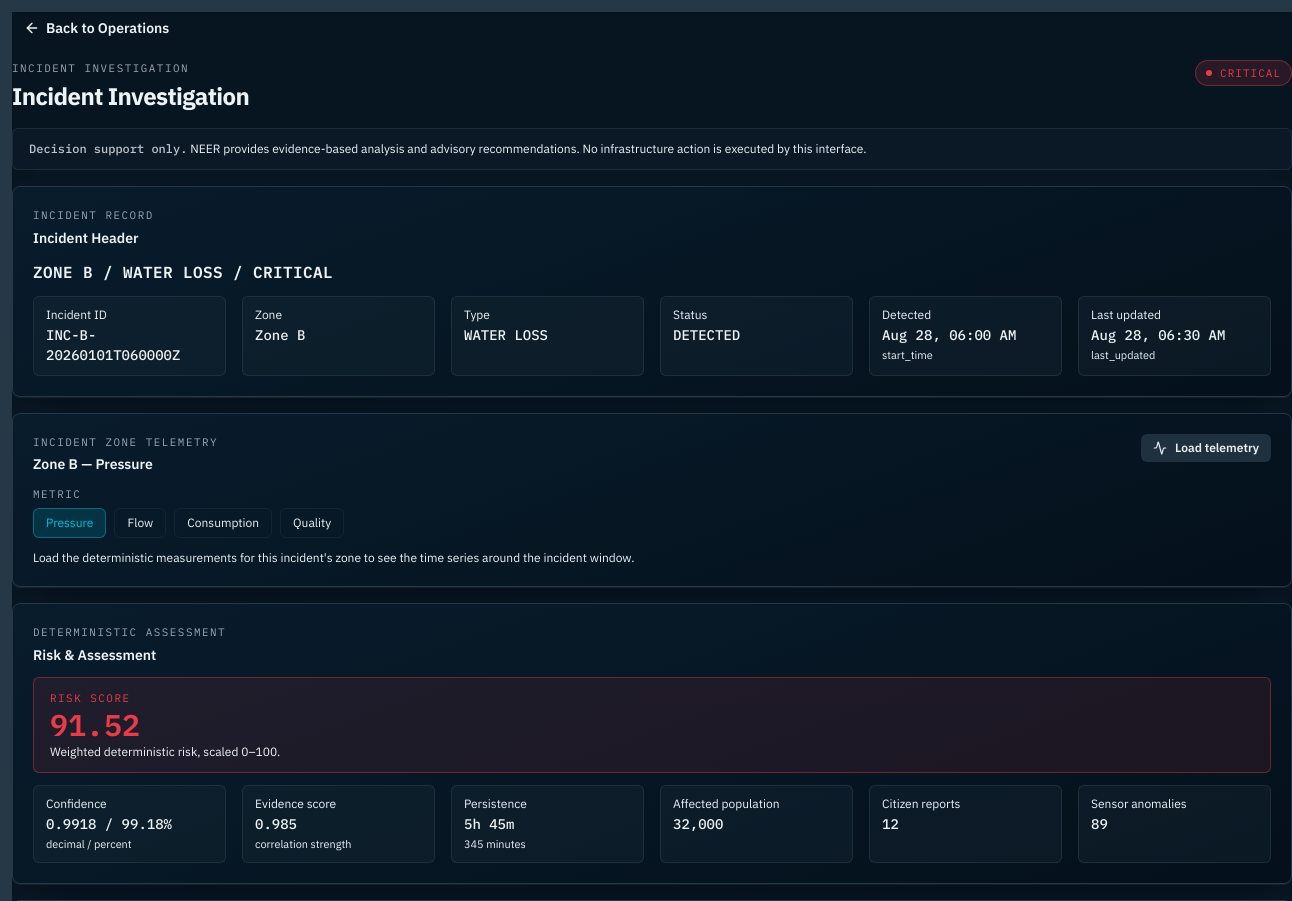
Test: IncidentInvestigationView telemetry integration › loads the incident zone telemetry on demand from the analysis run
Expected: the element labelled "Incident zone telemetry" is shown, 12,413 -> 1291,587
Click the button "Load telemetry" at (1206, 448), box 1141,434 -> 1271,462
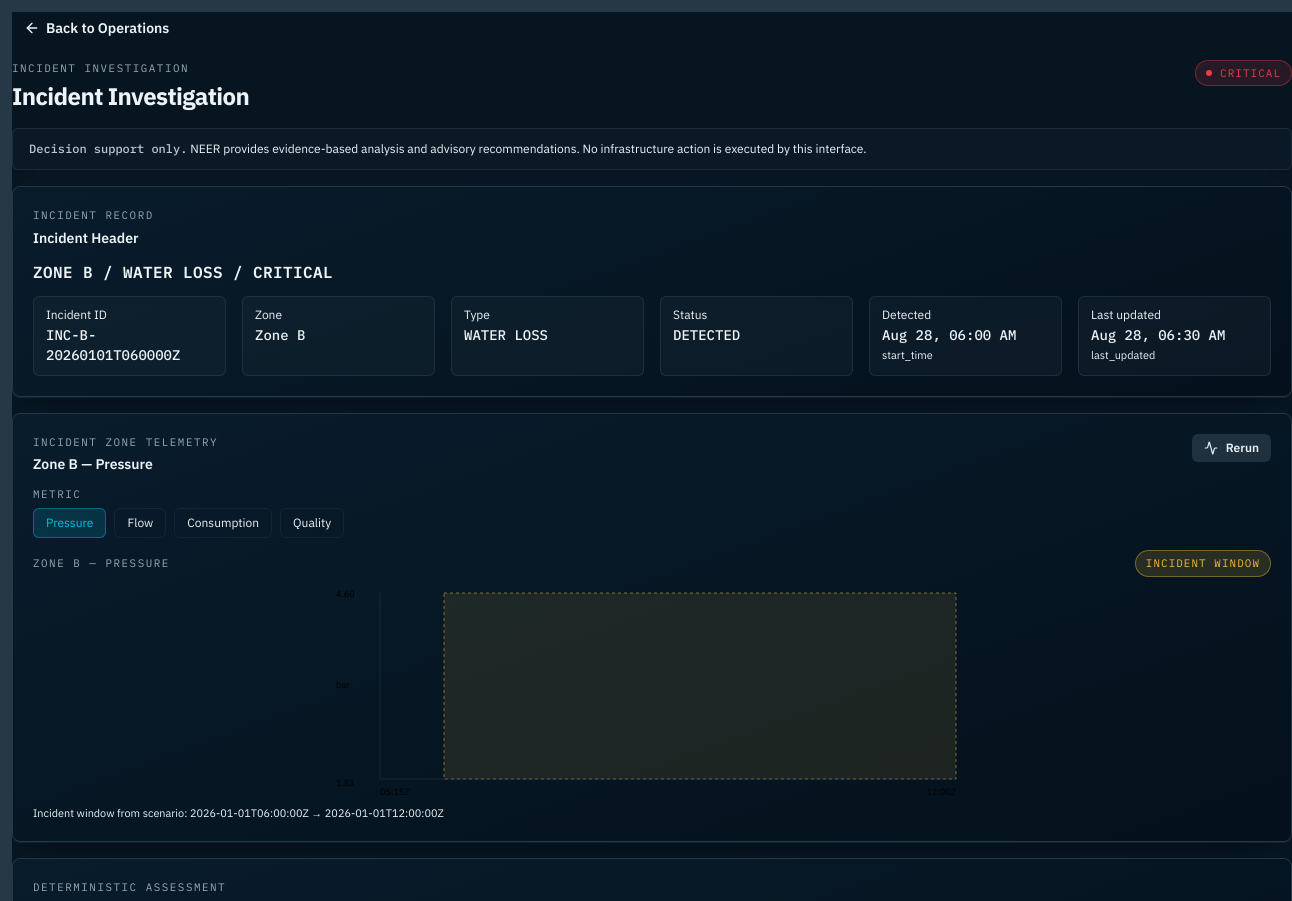
Expected: the element with test id "incident-window" is shown, 444,593 -> 956,779
Expected: the element with test id "telemetry-chart" is shown, 33,550 -> 1271,801
Expected: the text "Incident window from scenario: 2026-01-01T06:00:00Z" is shown, 33,806 -> 444,820
